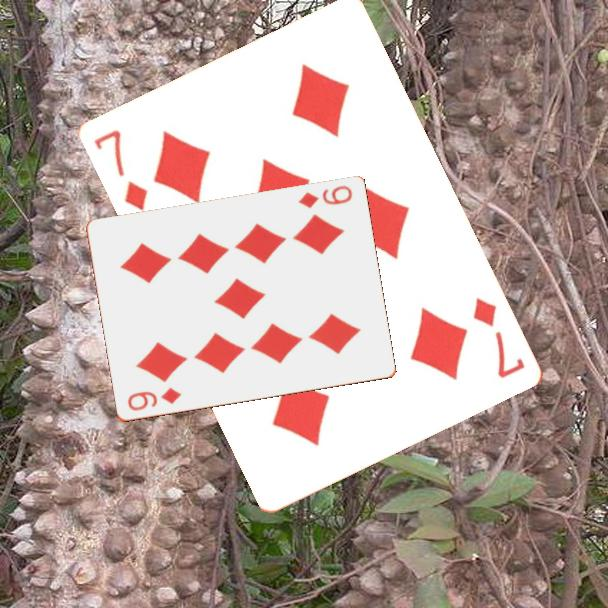d07: (90, 126, 151, 213), (468, 294, 527, 381)
d09: (124, 384, 183, 414), (295, 182, 355, 211)
